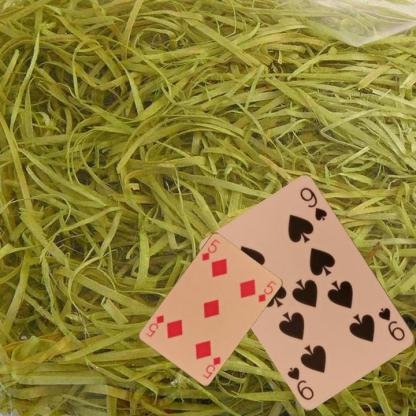5d: (200, 236, 222, 262), (200, 354, 222, 380)
9s: (376, 304, 406, 342)
